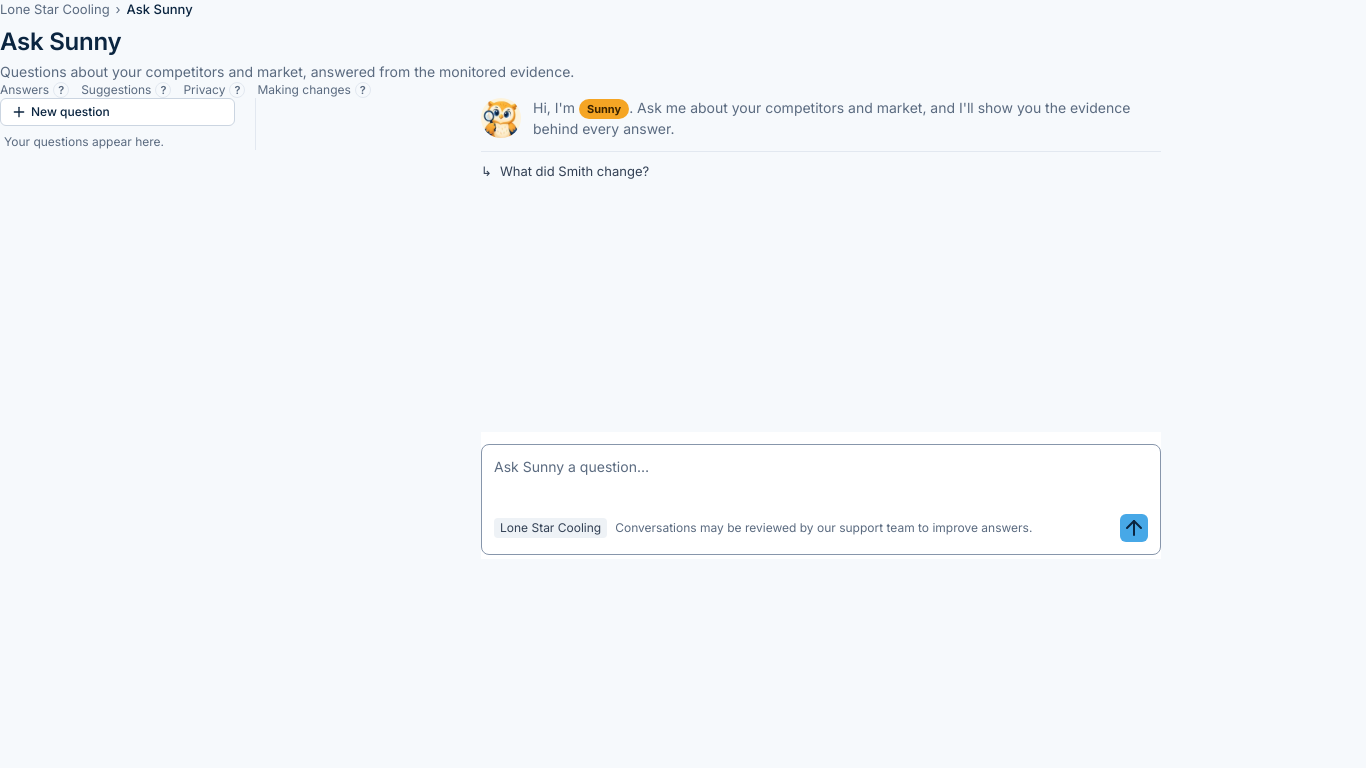
it: client batch B: Ask and Ask thread › Ask: description, and the four tips for client and agency; the privacy tip uses the viewer's names and says conversations are private
Check: the text "Questions about your competitors and market" is shown, box [0, 63, 574, 80]
Click the button named "Who can see your questions".
click(238, 90)  # box [230, 82, 246, 98]
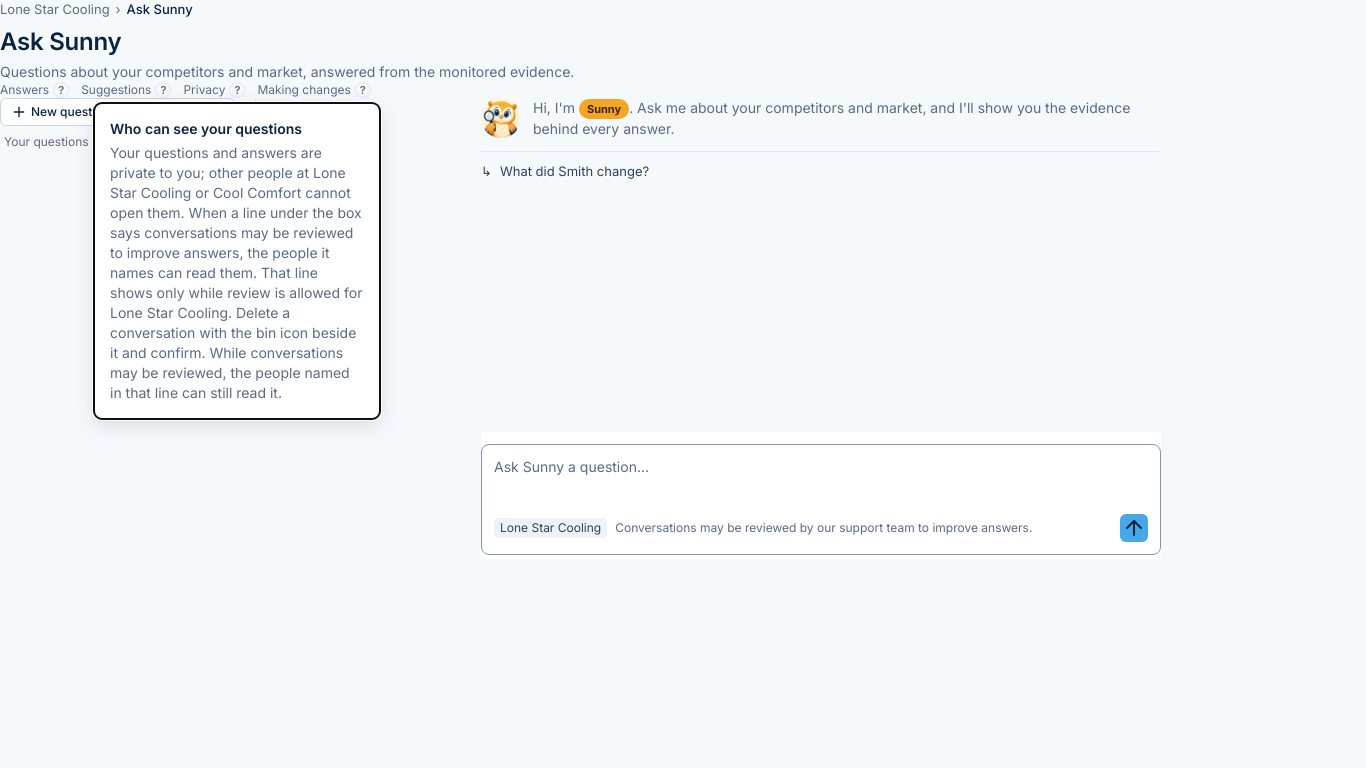
Check: the text "private to you" is shown, box [110, 144, 362, 401]
Check: the text "Cool Comfort" is shown, box [110, 144, 362, 401]
Check: the text "may be reviewed to improve answers" is shown, box [110, 144, 362, 401]
